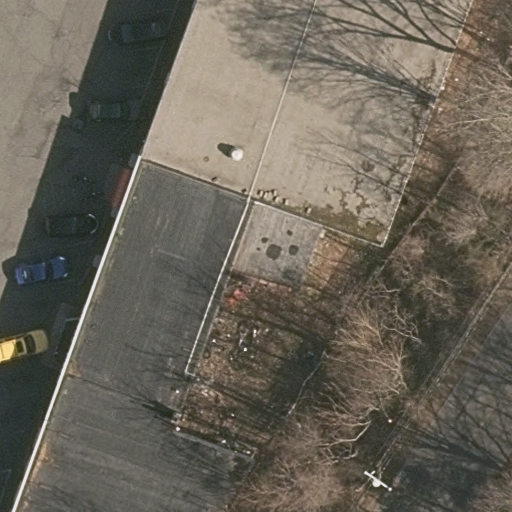DT: (355, 457, 397, 494)
